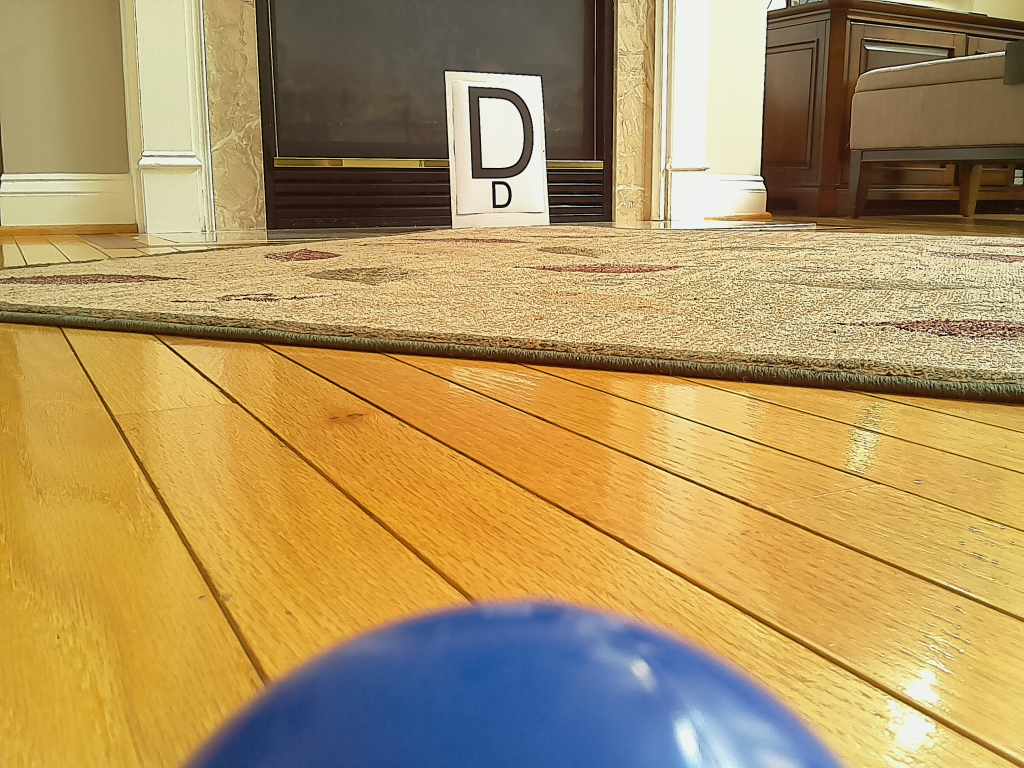letter: (472, 87, 534, 178)
